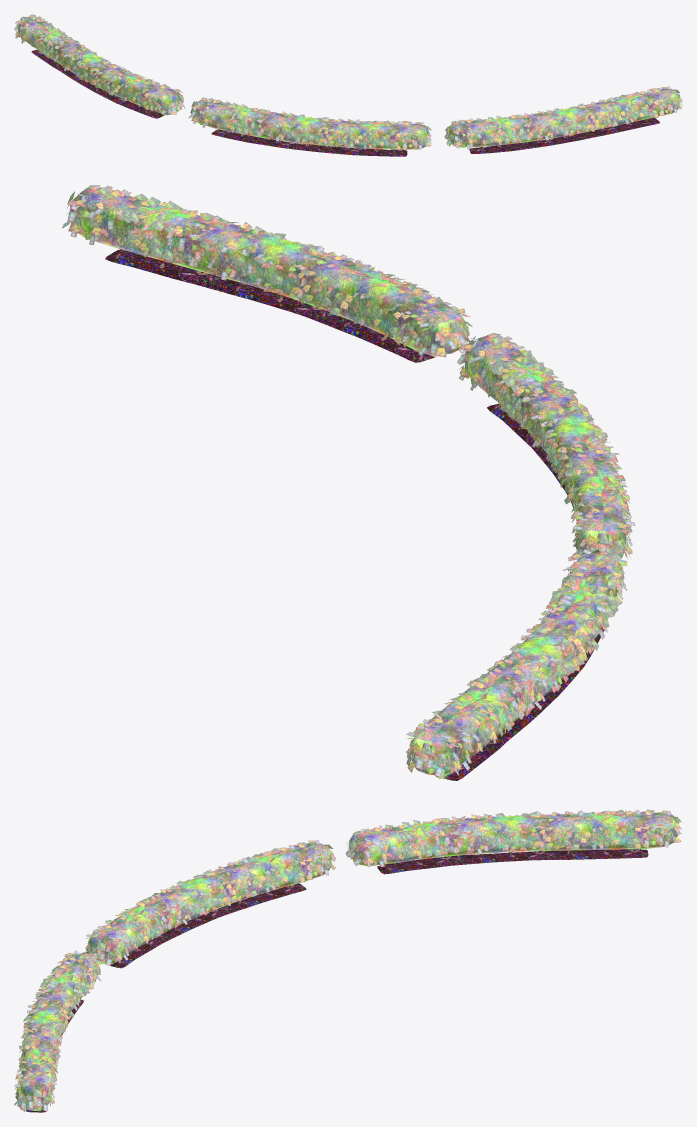
File: hedge_large_SM.fbx
The picture shows the model from 3 angles, top to bottom: view 1: azimuth 30°, elevation 25°; view 2: azimuth 150°, elevation 25°; view 3: azimuth 270°, elevation 25°; orthographic projection. The views are drawn at different scales.
Visible parts, largest first — view 1: hedge_large_SM_LOD0; view 2: hedge_large_SM_LOD0; view 3: hedge_large_SM_LOD0.
Part boxes in pixels (box(x1,y1,x2,y2)): hedge_large_SM_LOD0: box(14, 14, 682, 156); hedge_large_SM_LOD0: box(62, 185, 634, 780); hedge_large_SM_LOD0: box(14, 809, 681, 1112).
Size of the model in its own units: 1903 by 1903 by 130.
3 materials, 3 textured.
